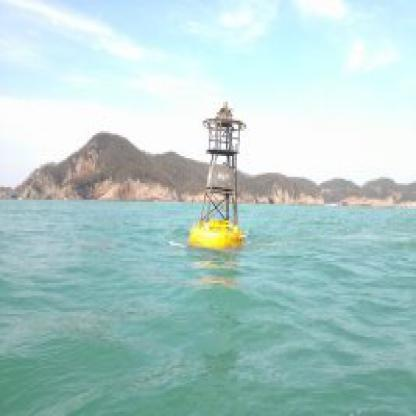buoy: (179, 91, 256, 258)
